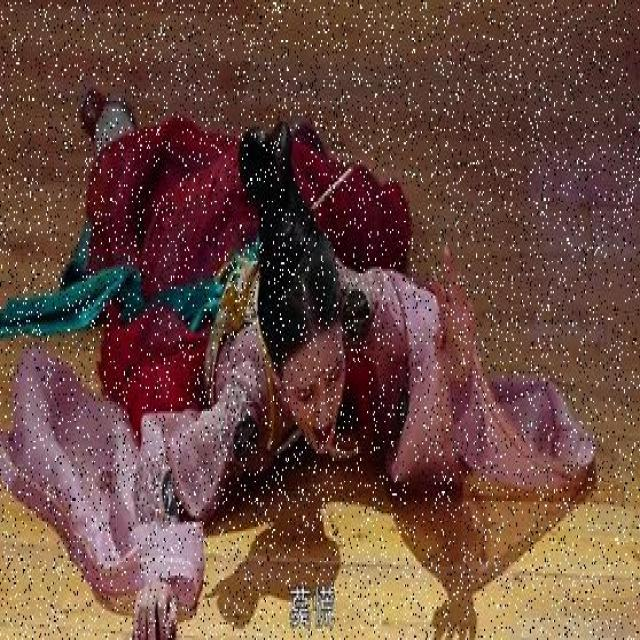fall: (61, 91, 548, 589)
